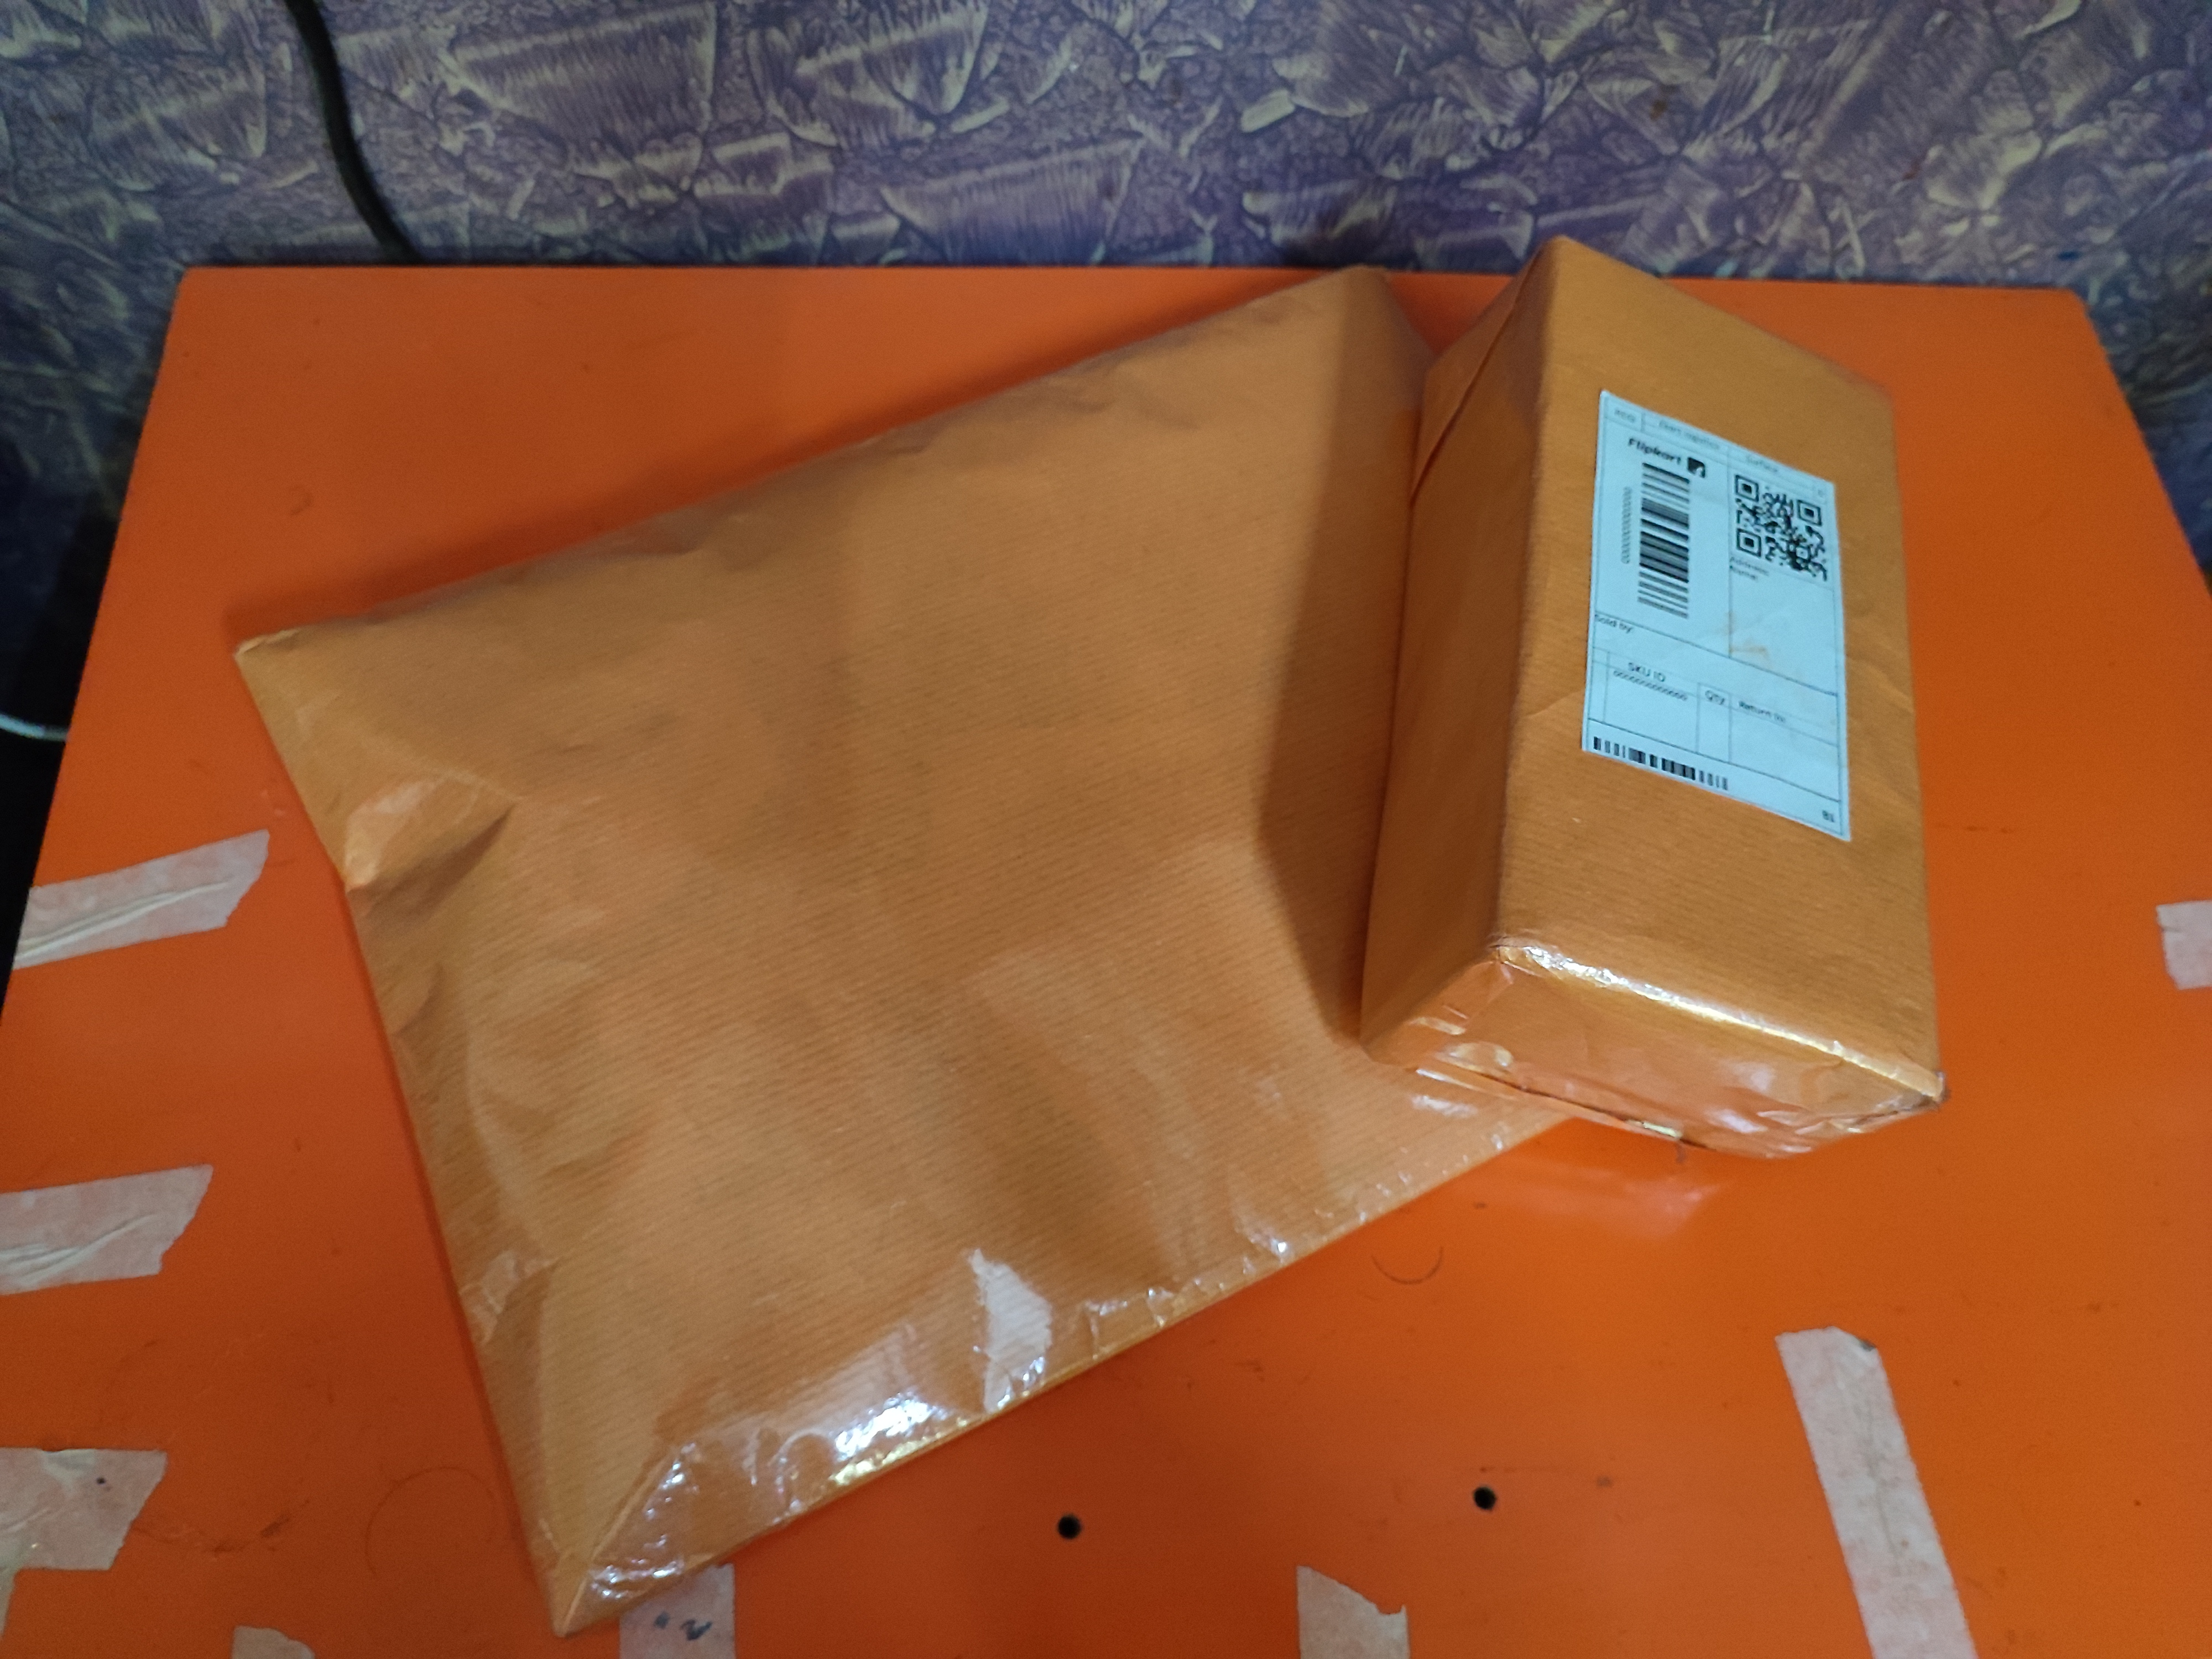Box: (185, 270, 1613, 1527), (1357, 207, 1977, 1267)
